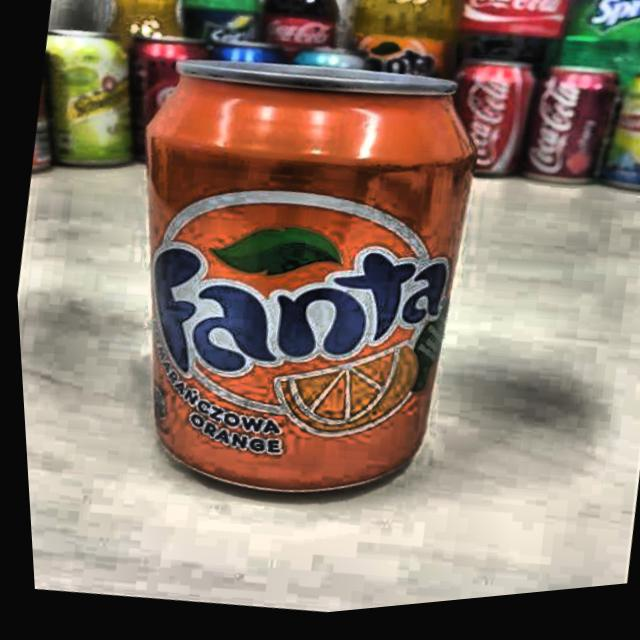Cans: (81, 9, 511, 553)
